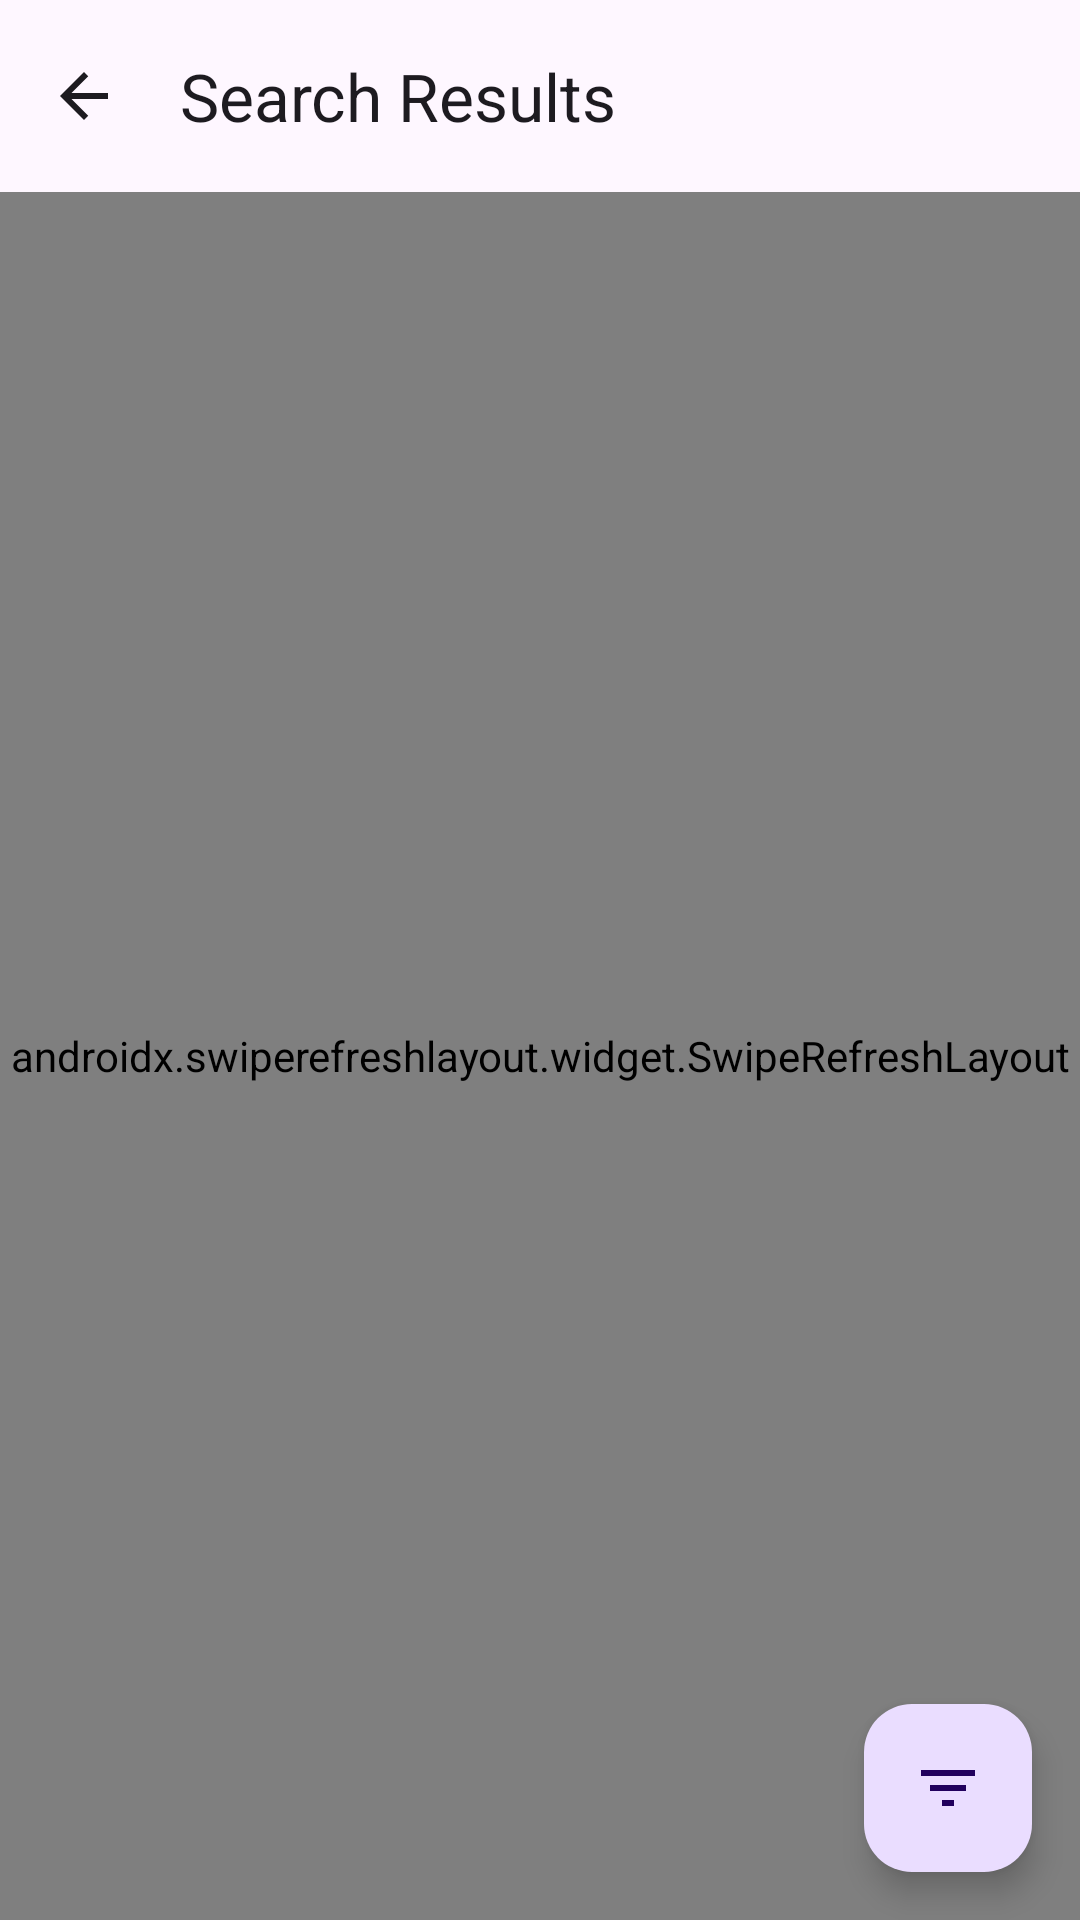

Icon click points for this 1080px x 1920px phone screenshot, format (x=x, y=y):
Filter: (x=948, y=1788)
